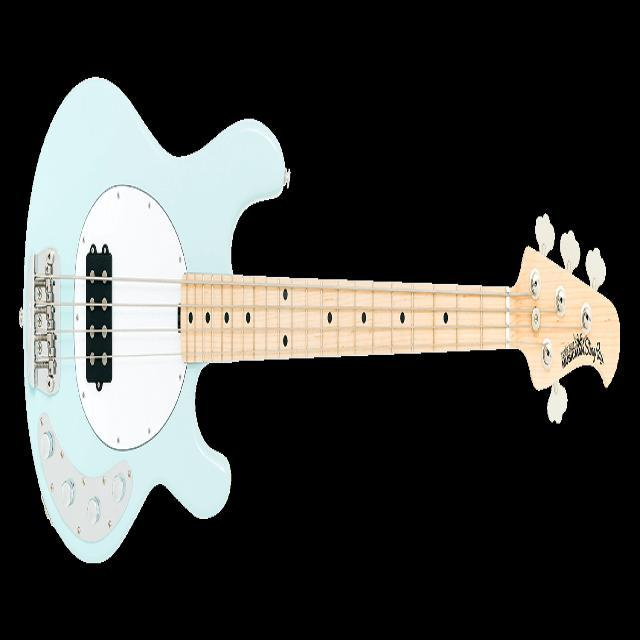bass: (20, 79, 618, 561)
